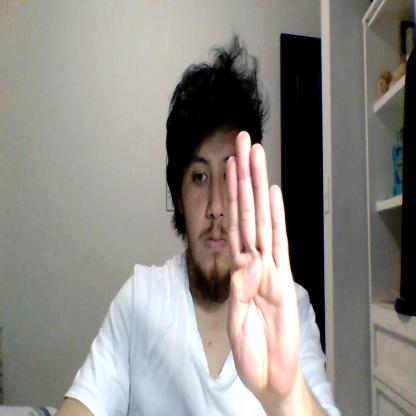B: (226, 130, 298, 396)
